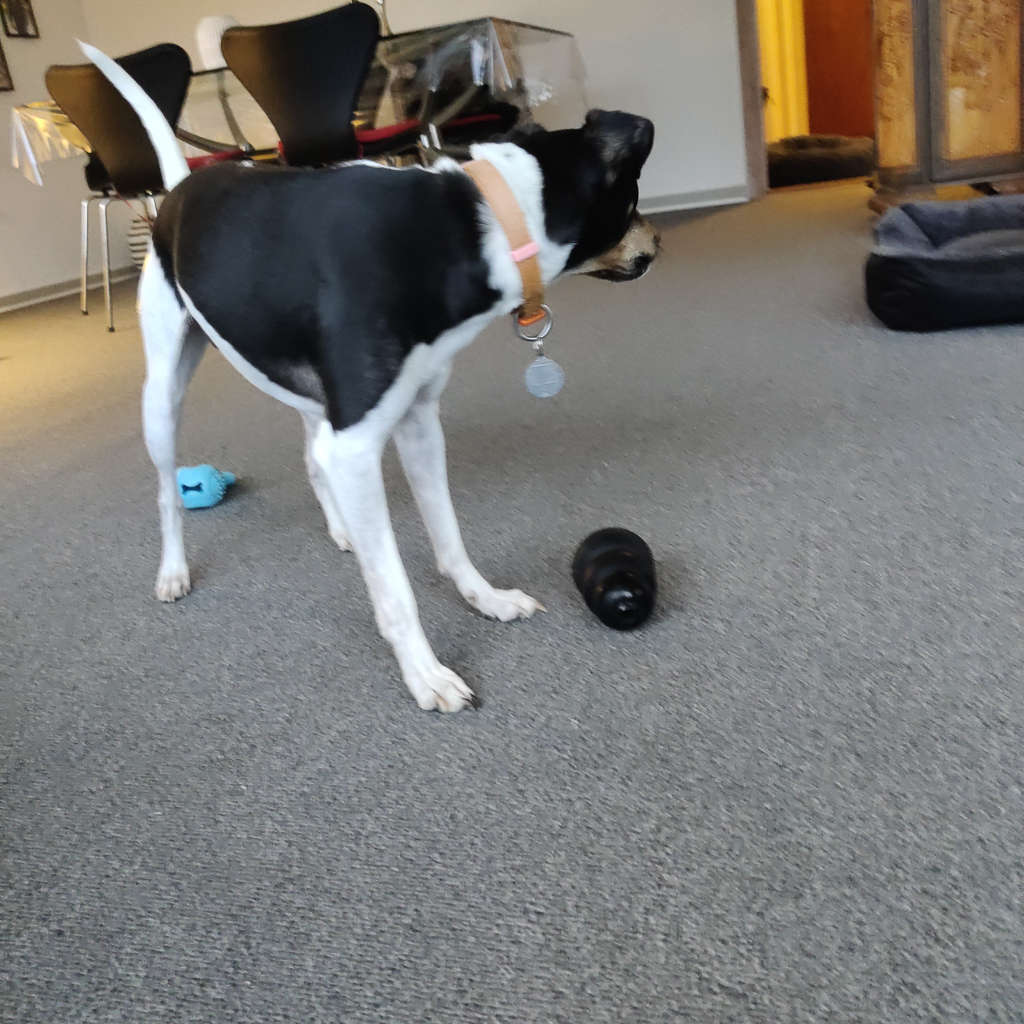Dog: (67, 25, 684, 752)
